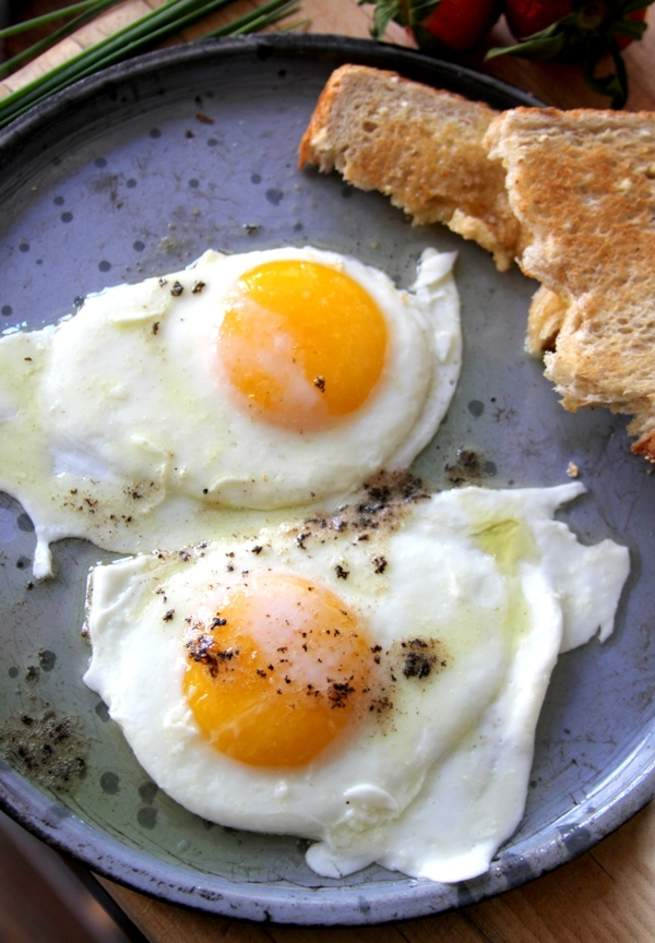fried egg: (84, 529, 538, 839), (12, 248, 462, 514)
slice of bread: (497, 95, 655, 441), (324, 55, 547, 247)
